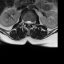CCS_normal: (27, 18, 30, 27)
LFS_normal: (32, 20, 33, 25)
LLS_normal: (30, 19, 32, 25)
RFS_normal: (23, 19, 25, 25)
RLS_normal: (25, 19, 27, 25)
